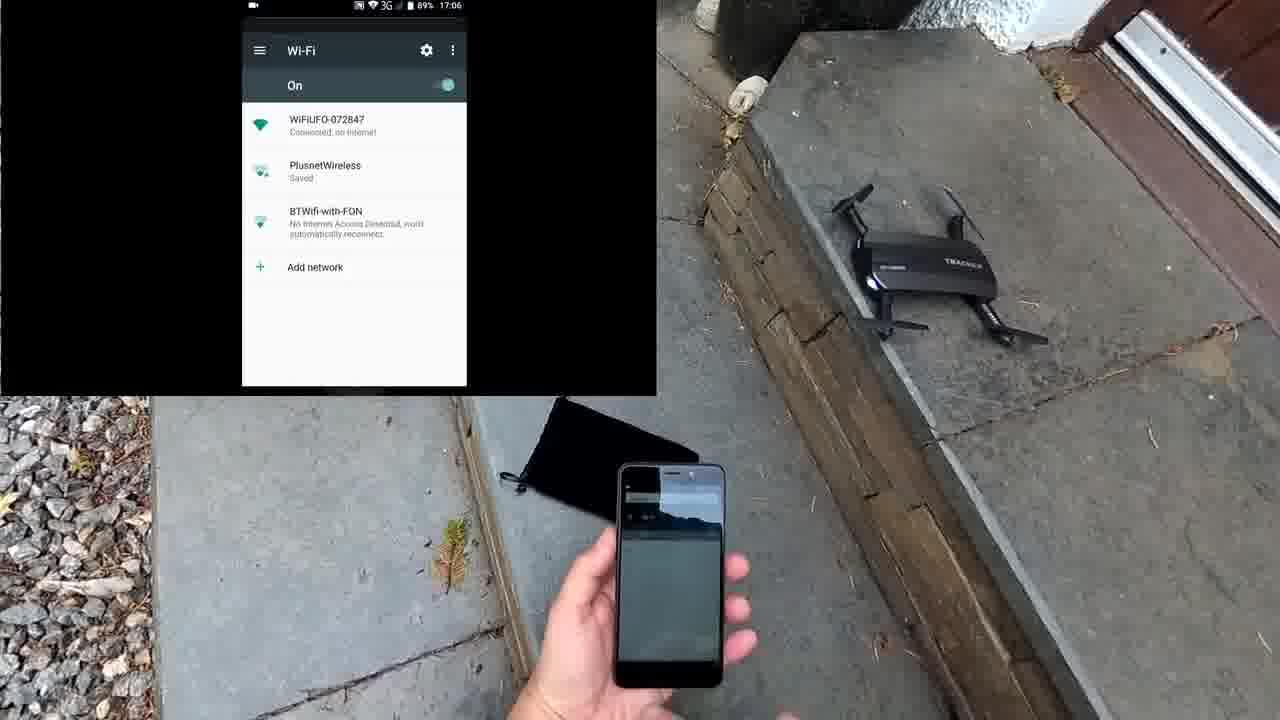drone: (820, 180, 1056, 359)
